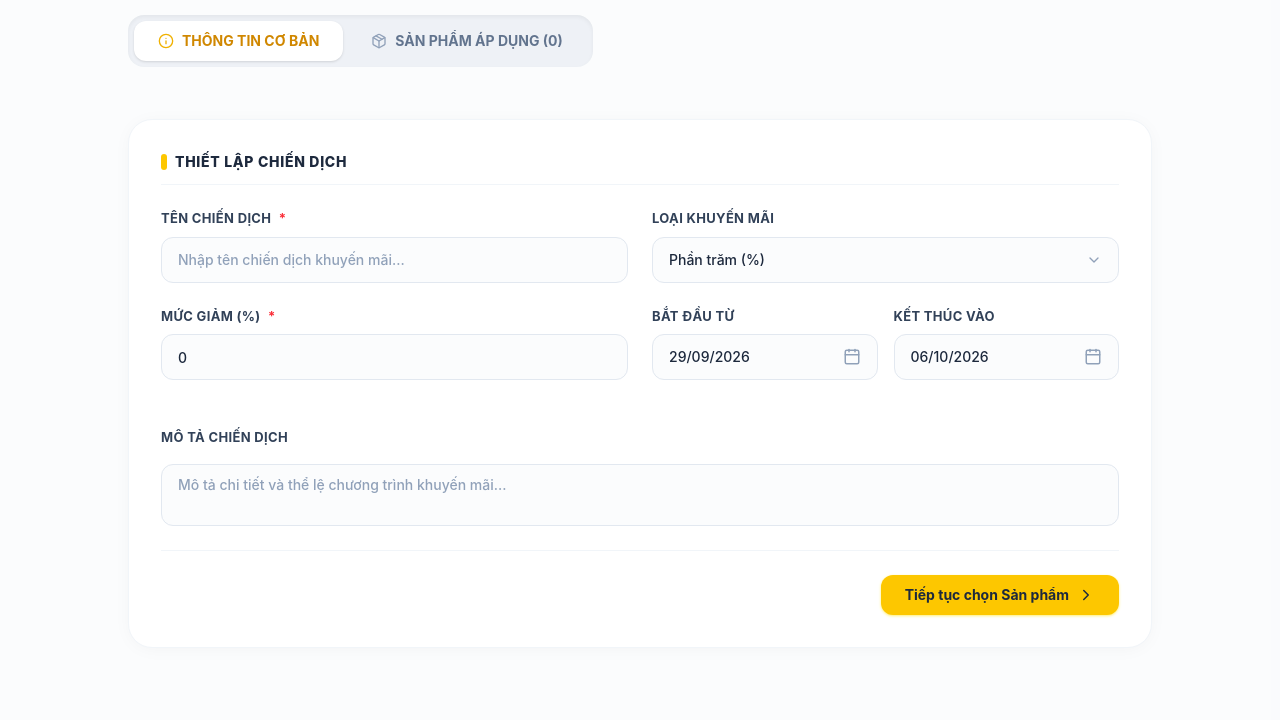
Module 07 - PromotionCampaignForm Component › TC02 - Chuyển đổi giữa các tab và cho phép chọn sản phẩm biến thể áp dụng
(page scrolled)
Note: Chuyển sang Tab 2 bằng cách nhấn nút "Tiếp tục chọn Sản phẩm"
Click the button "Tiếp tục chọn Sản phẩm" at [1000, 594], box x1=881 y1=574 x2=1119 y2=614
(page scrolled)
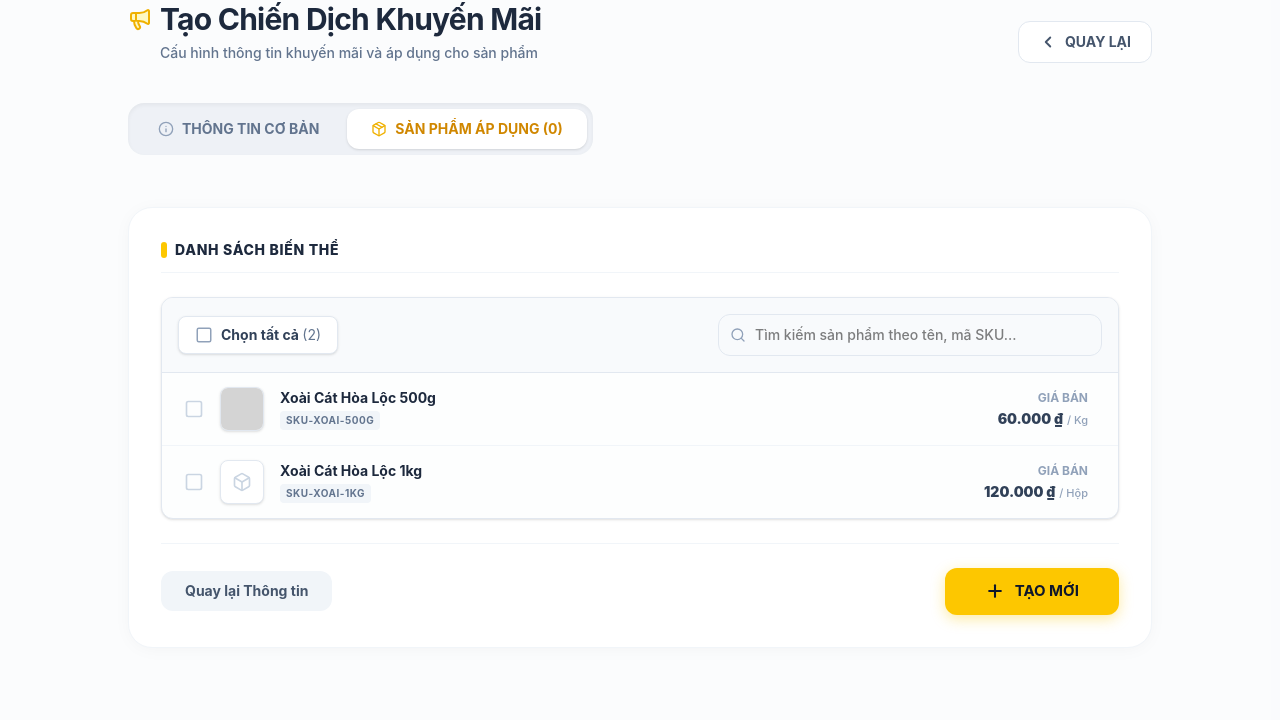
Now the heading "Danh Sách Biến Thể" is shown, box x1=161 y1=241 x2=339 y2=258
Now the heading "Xoài Cát Hòa Lộc 500g" is shown
Now the heading "Xoài Cát Hòa Lộc 1kg" is shown, box x1=280 y1=462 x2=422 y2=479
Note: Chọn variant đầu tiên
Click the heading "Xoài Cát Hòa Lộc 500g" at [358, 397], box x1=280 y1=389 x2=436 y2=406
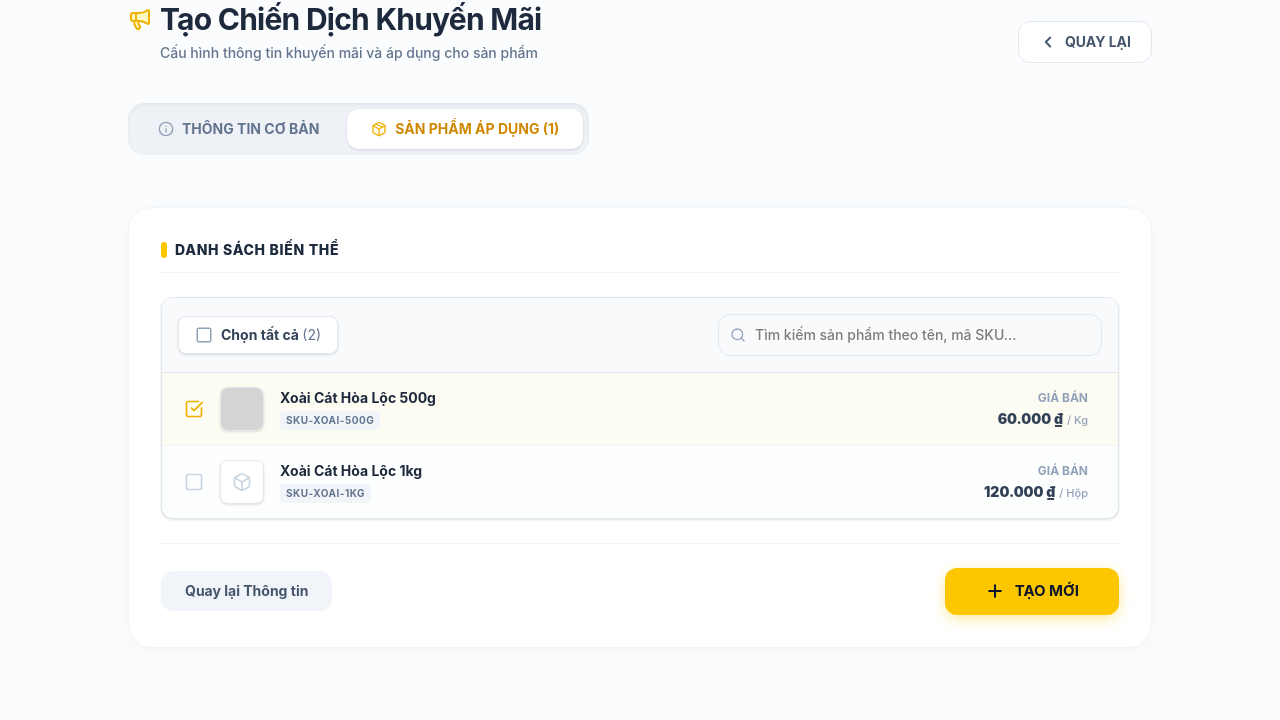
Now the button "SẢN PHẨM ÁP DỤNG (1)" is shown, box x1=347 y1=109 x2=583 y2=149
Note: Nhấn nút "Chọn tất cả"
Click the button "Chọn tất cả (2)" at [258, 335], box x1=178 y1=316 x2=338 y2=354
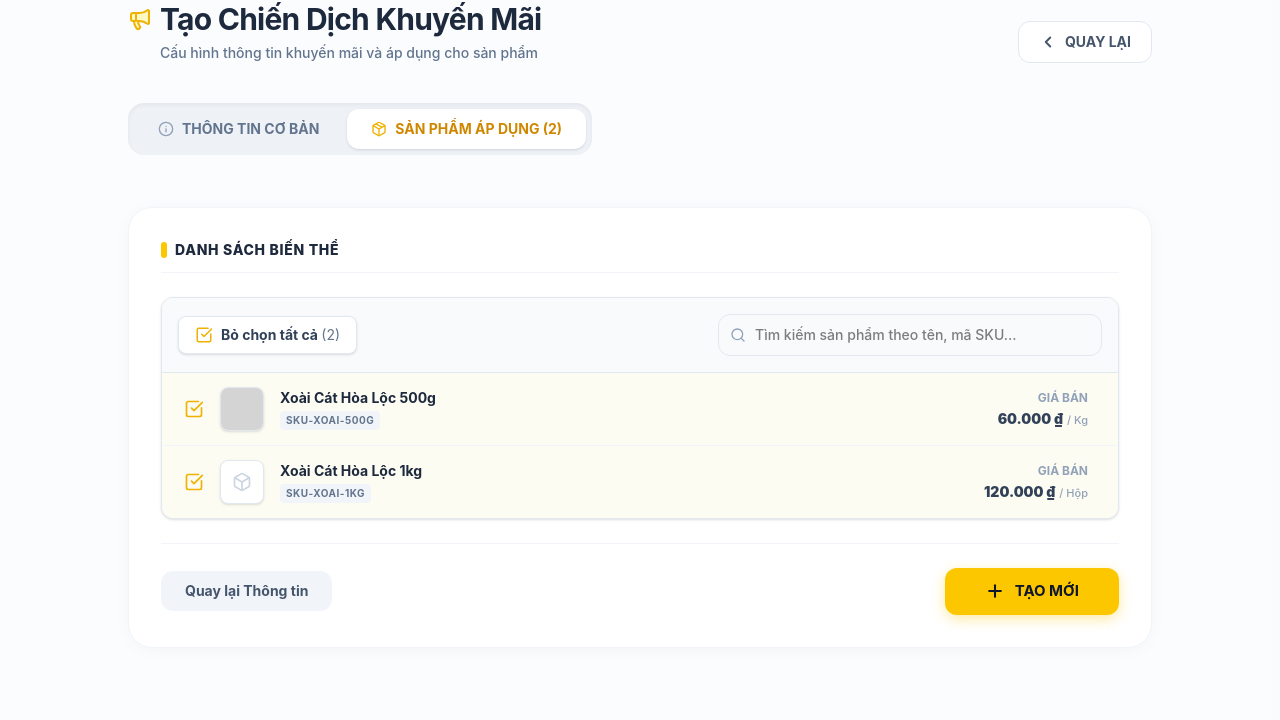
Now the button "SẢN PHẨM ÁP DỤNG (2)" is shown, box x1=347 y1=109 x2=586 y2=149
Now the text "Bỏ chọn tất cả (2)" is shown, box x1=221 y1=325 x2=340 y2=345
